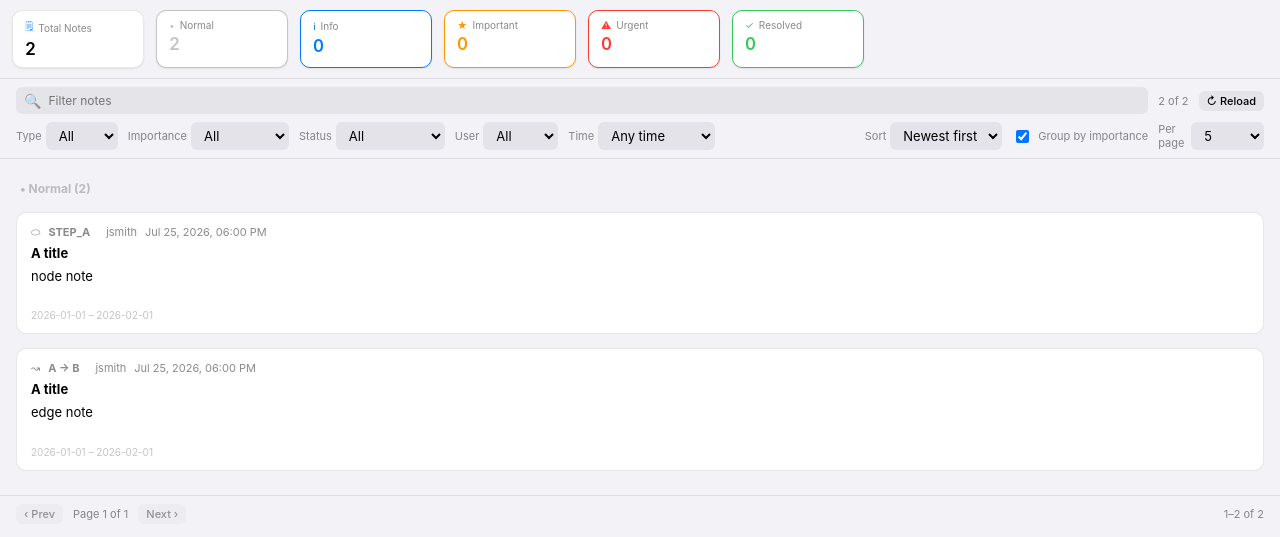
NotesView type filter › filters by note target type (node vs edge)
Select "Edge" in the dropdown labelled "Type": (82, 136) x1=46 y1=122 x2=118 y2=150
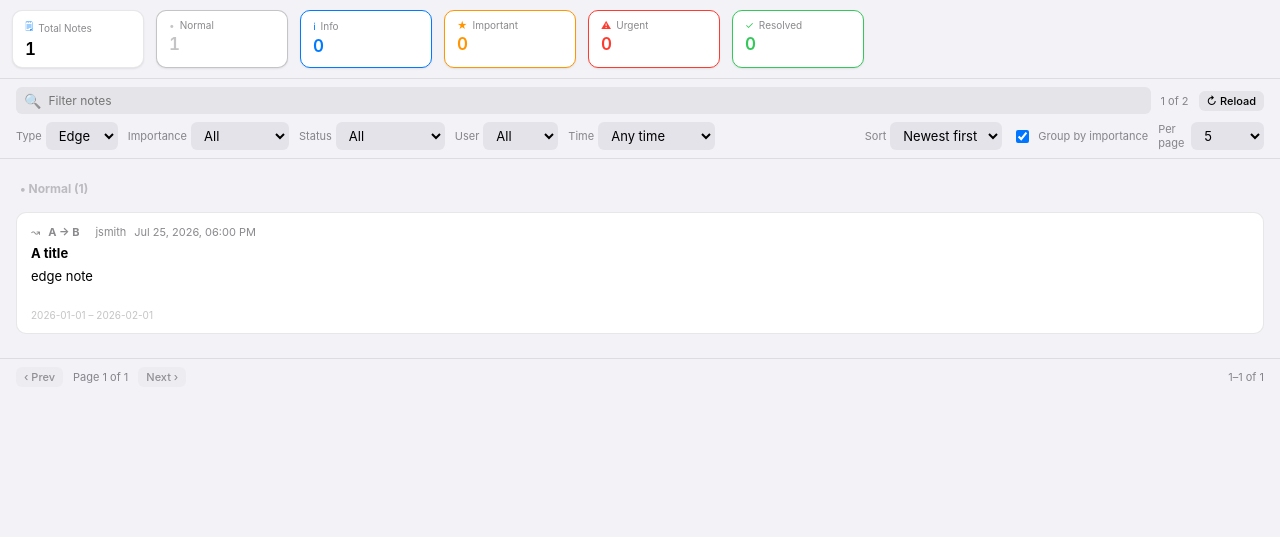
Check: the text "edge note" is shown, box x1=31 y1=268 x2=93 y2=284
Check: the button "node note" is gone
